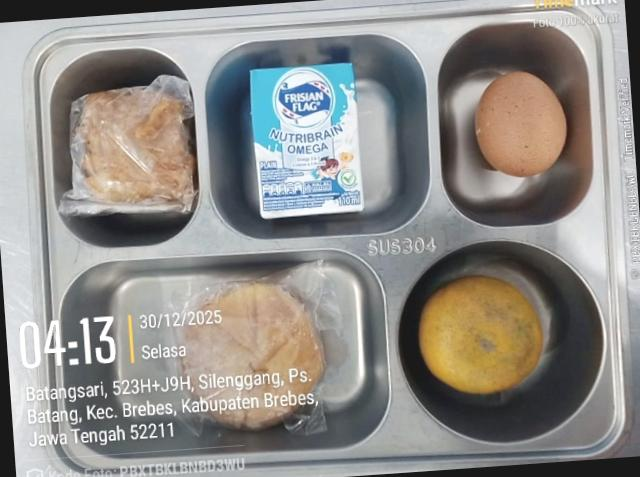buah: (418, 275, 542, 393)
roti: (179, 281, 323, 429)
susu: (250, 62, 364, 217)
tahu: (62, 74, 196, 210)
telur: (474, 71, 566, 176)
